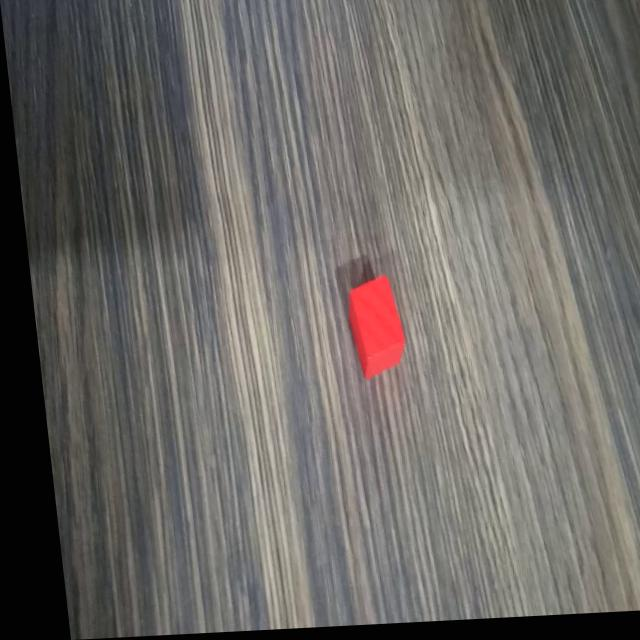cube: (336, 273, 401, 386)
